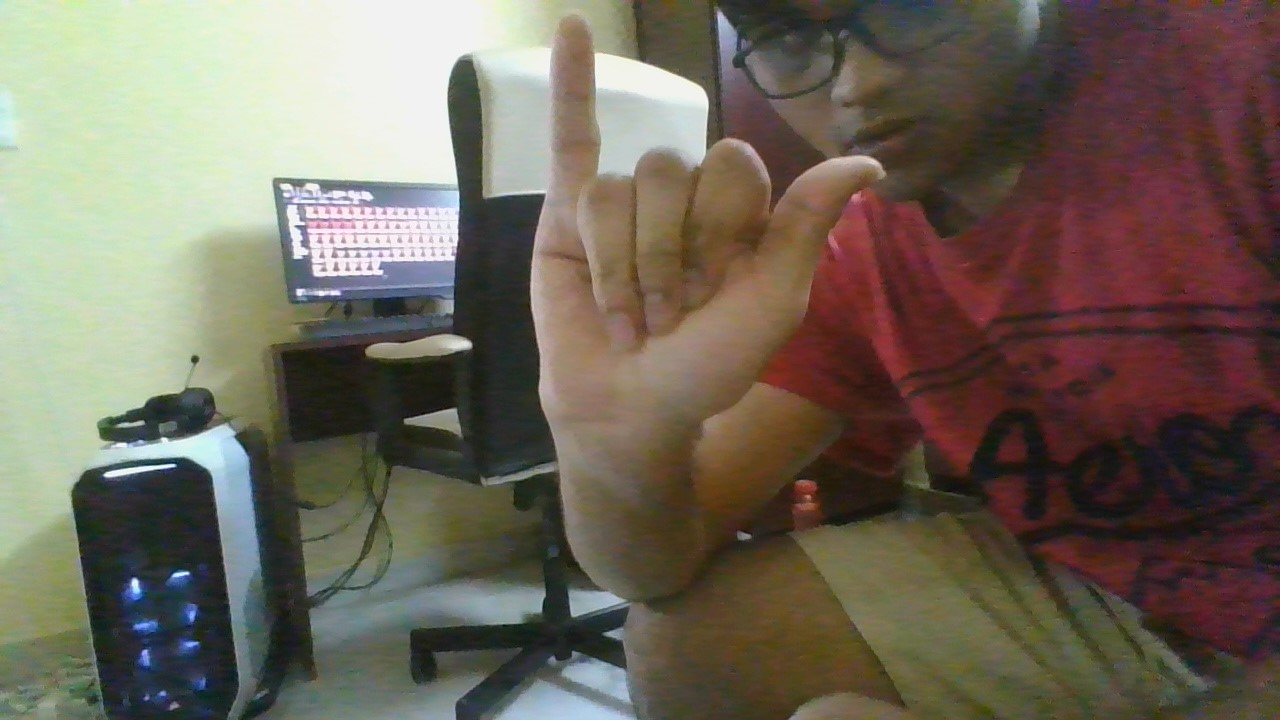y: (529, 7, 890, 432)
